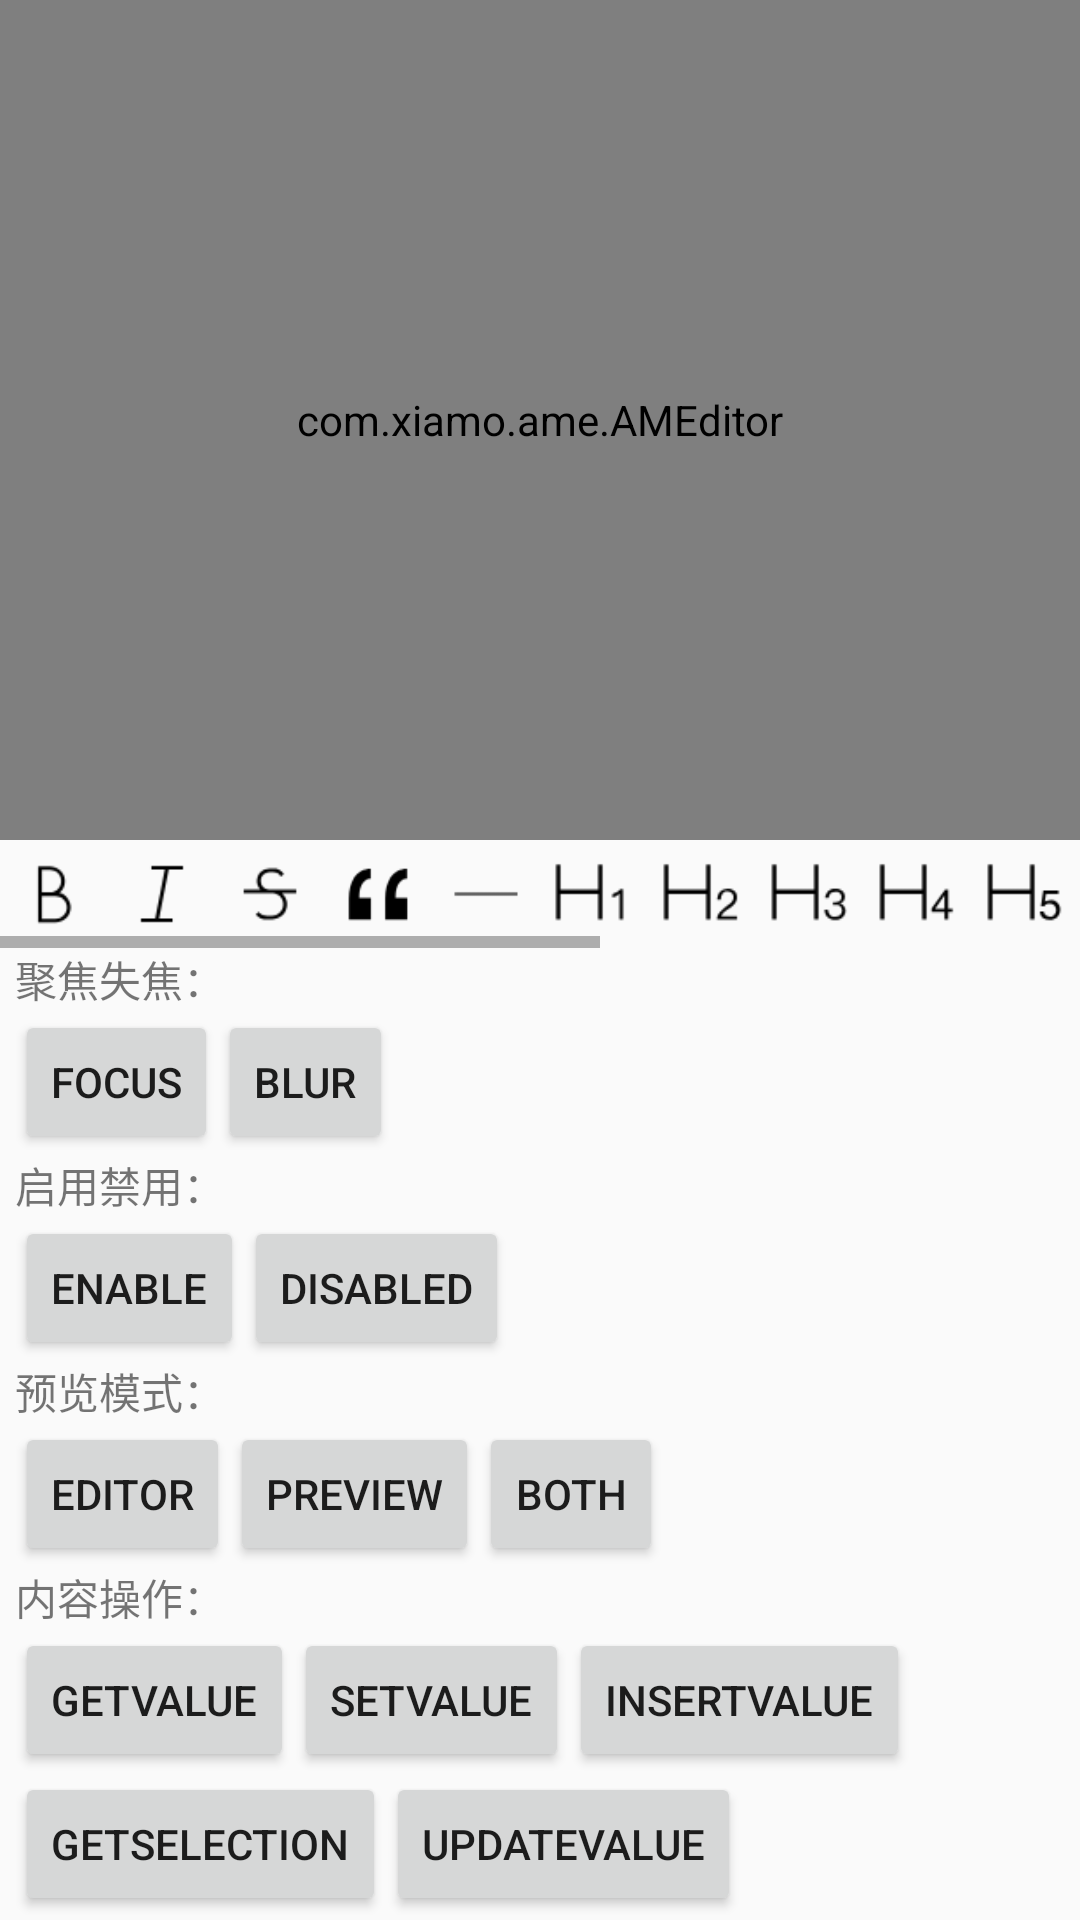

Icons on this 1080 x 1920 Android screen, each with the point to tap as [x,y]:
tool italic: [162,906]
tool quote: [378,894]
tool strike: [270,907]
